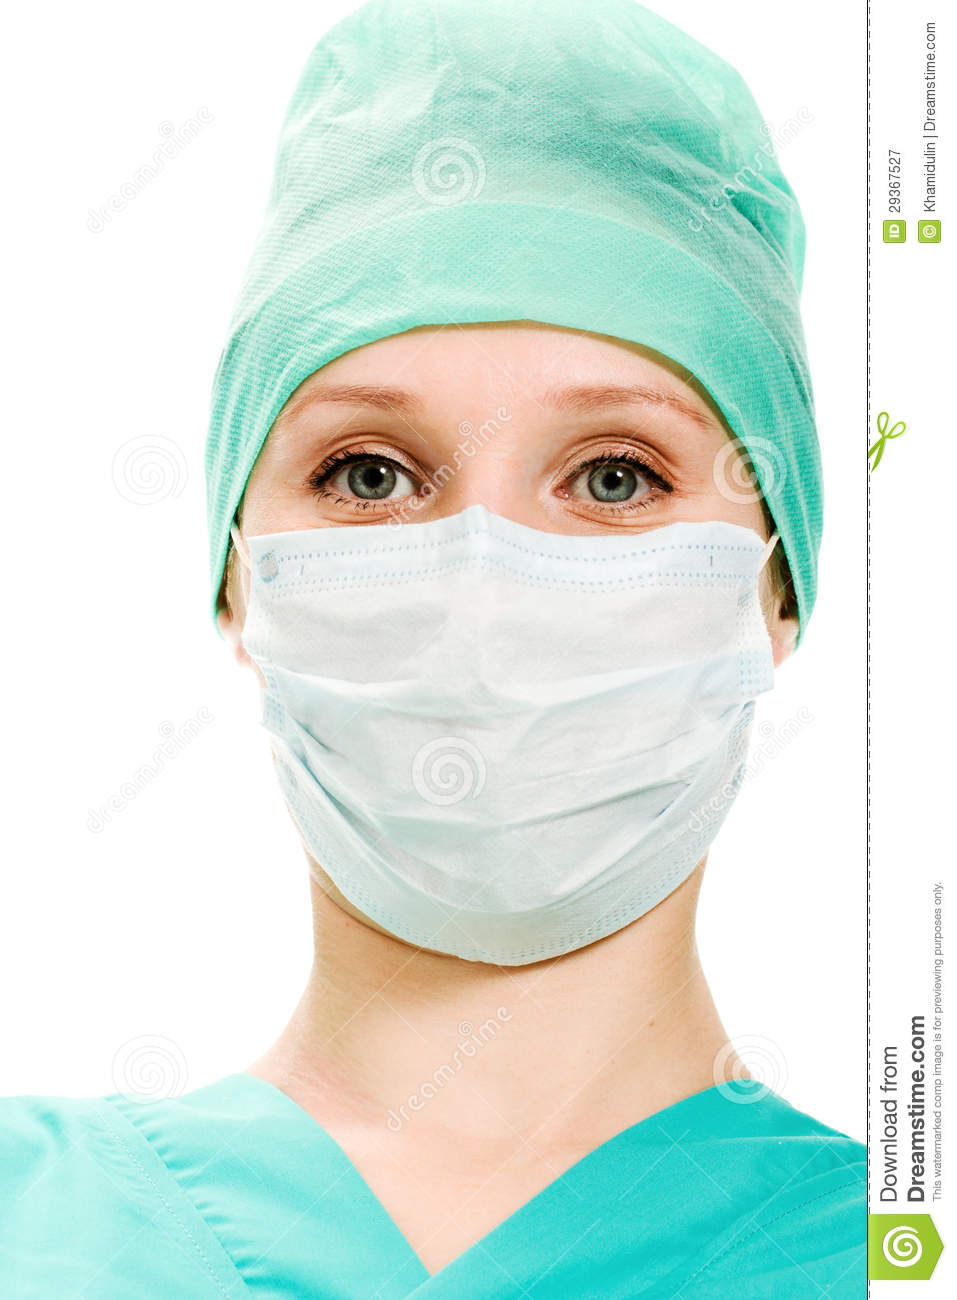mask: (238, 509, 776, 945)
